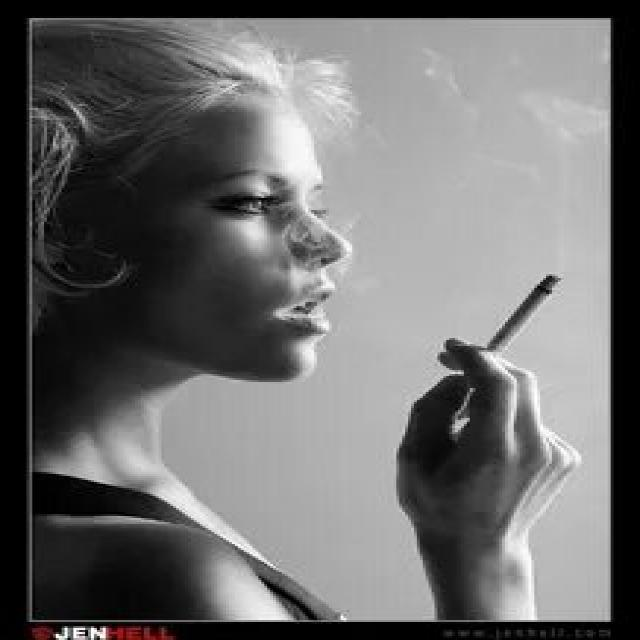cigarette: (472, 272, 564, 362)
